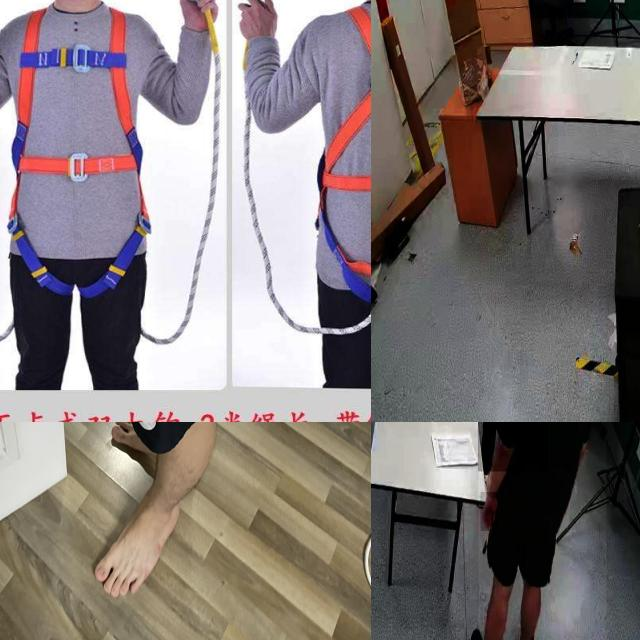Harness: (6, 4, 149, 295), (316, 4, 371, 300)
Sandals: (94, 475, 180, 598)
hand_noglove: (481, 492, 498, 532)
person: (478, 422, 607, 640)
shoes: (466, 622, 498, 640), (510, 623, 538, 640)
